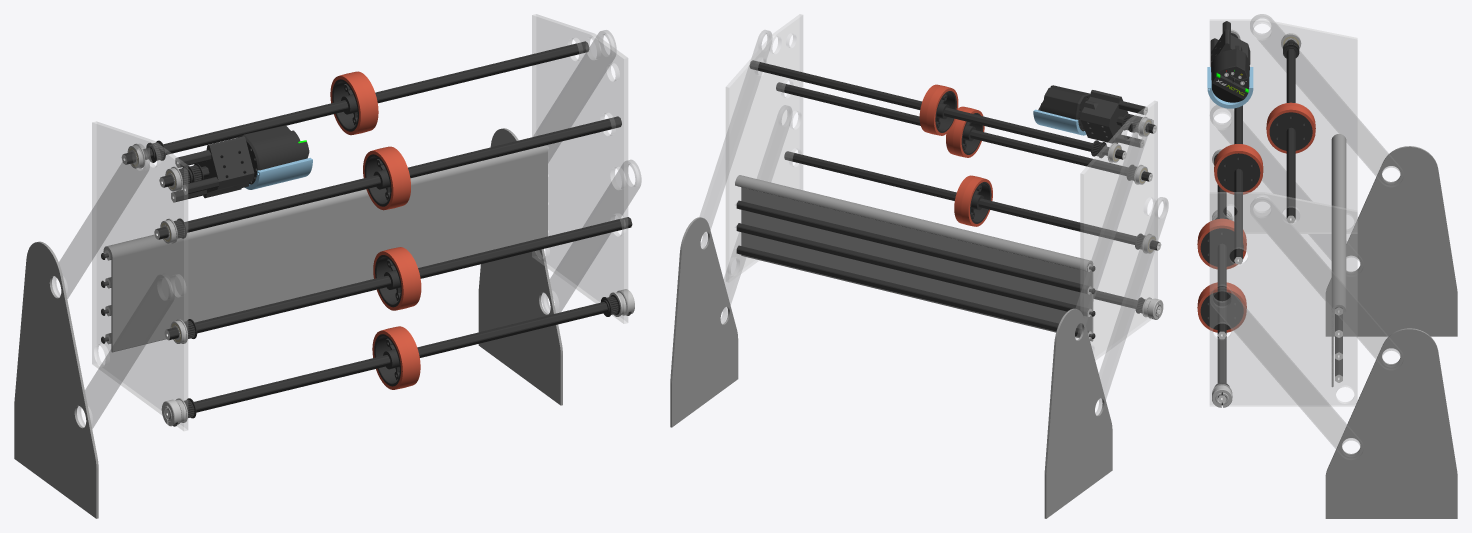
3 views of the same model, side by side, from view 1: azimuth 30°, elevation 25°; view 2: azimuth 150°, elevation 25°; view 3: azimuth 270°, elevation 25° (orthographic). The views are drawn at different scales.
Visible parts, largest first — view 1: Part 7 (×2), Part 10, 1/2" Rounded Hex (26" L, 13.75mm OD) (×4), Part 6, 3" Stealth Wheel (40A, 1/2" Hex Bore) (×4), Part 5, Part 1 (×2), Part 4, Part 3, Part 2, MAXPlanetary (Block), Kraken X60 Brushless Motor; view 2: Part 7 (×2), Part 10, 1/2" Rounded Hex (26" L, 13.75mm OD) (×3), Part 6, Part 5, 1/2" Rounded Hex (24.5" L, 13.75mm OD) (×3), 3" Stealth Wheel (40A, 1/2" Hex Bore) (×3), Part 4, Part 3, Part 2, Part 1 (×2), MAXPlanetary (Block) (+1 smaller); view 3: Part 7 (×2), Part 5, Part 6, 3" Stealth Wheel (40A, 1/2" Hex Bore) (×4), Part 1 (×2), Part 2, Part 4, 1/2" Rounded Hex (26" L, 13.75mm OD) (×4), Part 10, Part 3, Kraken X60 Brushless Motor, MAXPlanetary (Block) (+1 smaller).
Part boxes in pixels (x1,y1,x2,y2): Part 7 (×2): (92,14,627,430); Part 10: (103,145,547,352); 1/2" Rounded Hex (26" L, 13.75mm OD) (×4): (121,41,632,419); Part 6: (14,241,98,518); 3" Stealth Wheel (40A, 1/2" Hex Bore) (×4): (330,71,421,389); Part 5: (478,128,562,405); Part 1 (×2): (245,157,641,313); Part 4: (52,144,149,298); Part 3: (77,273,174,428); Part 2: (533,30,616,162); MAXPlanetary (Block): (197,136,254,198); Kraken X60 Brushless Motor: (238,125,309,184); Part 7 (×2): (726,14,1157,360); Part 10: (735,175,1093,341); 1/2" Rounded Hex (26" L, 13.75mm OD) (×3): (749,60,1161,250); Part 6: (1044,308,1112,518); Part 5: (670,217,738,427); 1/2" Rounded Hex (24.5" L, 13.75mm OD) (×3): (736,200,1091,338); 3" Stealth Wheel (40A, 1/2" Hex Bore) (×3): (919,84,992,226); Part 4: (1075,122,1148,339); Part 3: (1095,197,1168,415); Part 2: (699,30,772,248); Part 1 (×2): (721,105,1086,323); MAXPlanetary (Block): (1080,90,1128,143); Part 7 (×2): (1210,19,1357,406); Part 5: (1325,328,1457,518); Part 6: (1325,146,1457,336); 3" Stealth Wheel (40A, 1/2" Hex Bore) (×4): (1197,102,1315,332); Part 1 (×2): (1207,67,1363,459); Part 2: (1250,197,1403,369); Part 4: (1250,14,1403,186); 1/2" Rounded Hex (26" L, 13.75mm OD) (×4): (1217,39,1295,402); Part 10: (1331,134,1346,387); Part 3: (1210,105,1363,276); Kraken X60 Brushless Motor: (1211,48,1249,102); MAXPlanetary (Block): (1210,29,1250,66).
Bounding box in the file's own units: 0.6763 × 0.5547 × 0.4003.
